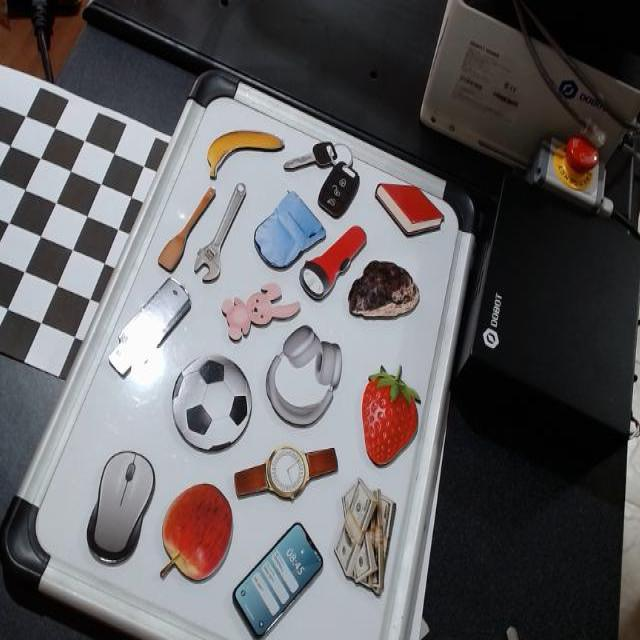Other Objects: (79, 441, 160, 575), (232, 521, 323, 637), (103, 270, 194, 384), (166, 348, 256, 457), (282, 114, 367, 223), (247, 182, 328, 286), (329, 475, 397, 594), (265, 323, 342, 428), (159, 483, 233, 583), (294, 208, 368, 306), (190, 173, 247, 287), (155, 182, 221, 276), (233, 444, 338, 503), (201, 111, 284, 180), (220, 281, 300, 341), (347, 259, 419, 319)
